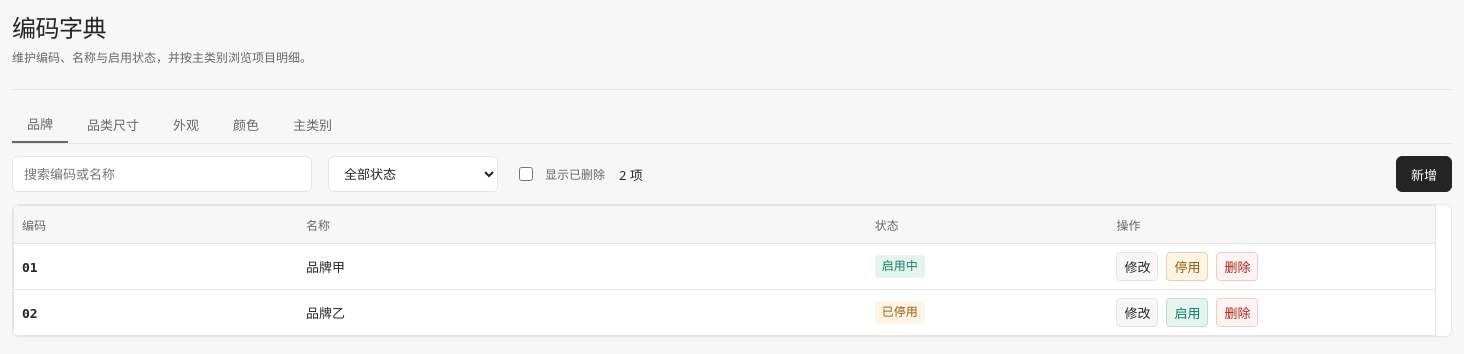
Test case: dictionary real-page density › keeps creation collapsed and filters loaded records without another API request
This screenshot has width=1464, height=354.
Expected: the text "品牌甲" is shown, [298,244,867,290]
Select "已停用" in the dropdown named "字典状态" at [413, 174], box [328,156,498,192]
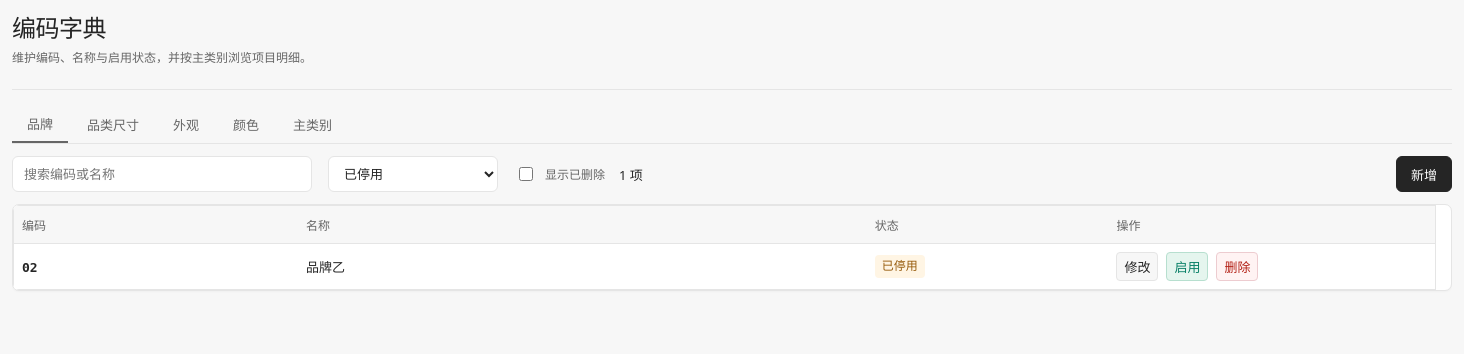
Expected: the text "品牌乙" is shown, [298,244,867,290]
Result: the text "品牌甲" is gone
Type "不存在" into the field labelled "搜索编码或名称" at [162, 174], box [12,156,312,192]
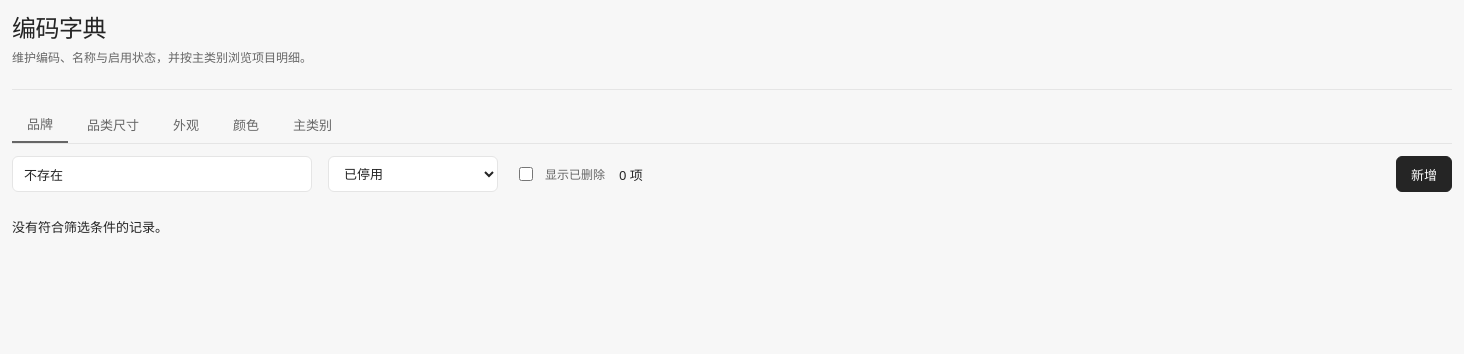
Result: the text "没有符合筛选条件的记录。" is shown at [12,218,168,236]
